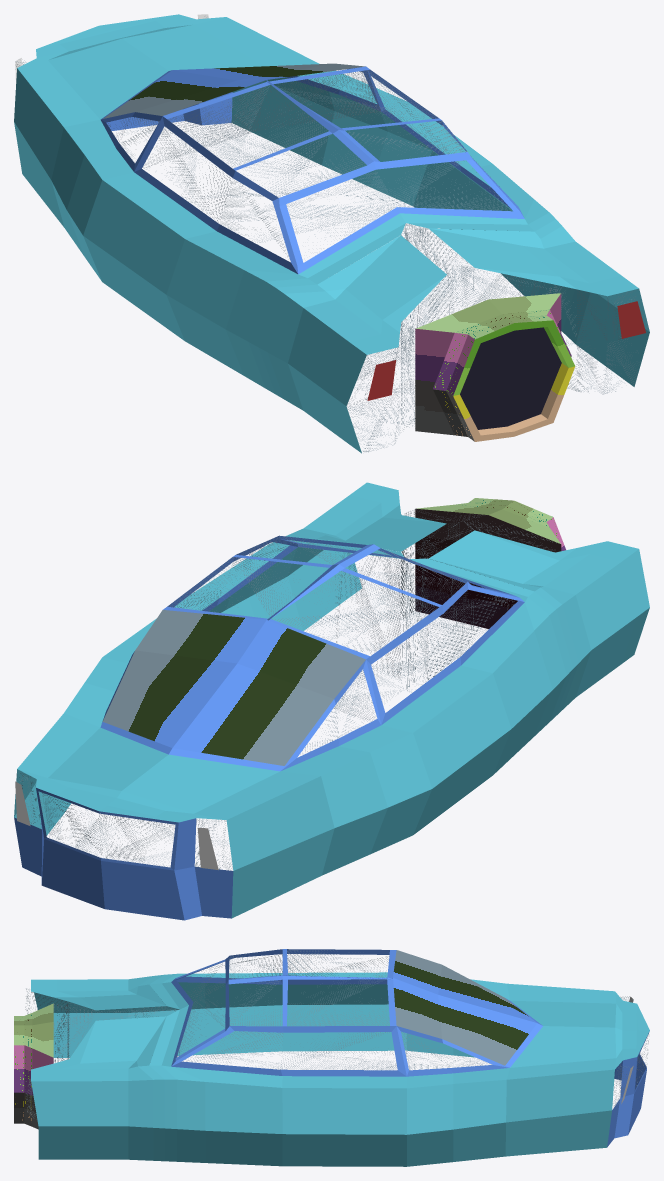
File: cuba_cars.obj
3 views of the same model, one above another, from view 1: azimuth 30°, elevation 25°; view 2: azimuth 150°, elevation 25°; view 3: azimuth 270°, elevation 25° (orthographic). The views are drawn at different scales.
Visible parts, largest first — view 1: Cube; view 2: Cube; view 3: Cube.
Boxes of the visible parts, x1,y1,x2,y2 form: Cube: (14,14,649,453); Cube: (14,482,649,920); Cube: (14,949,649,1166).
Size of the model in its own units: 2.41 by 1.18 by 4.97.
